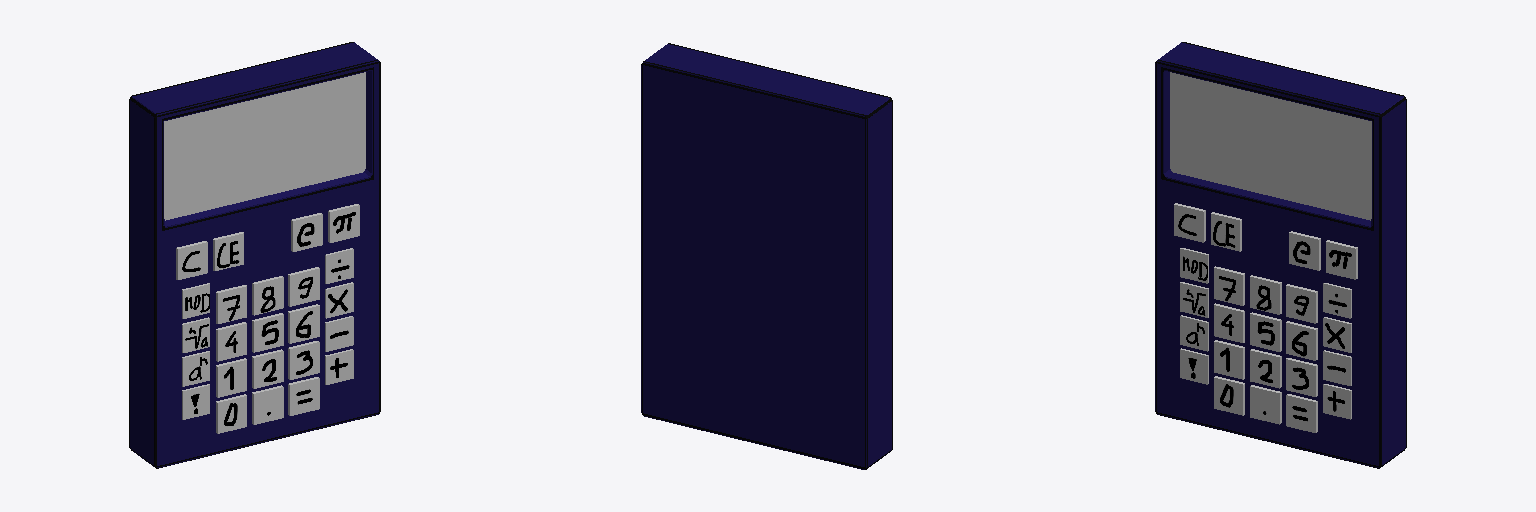
3 renders of one model, left to right at view 1: azimuth 30°, elevation 25°; view 2: azimuth 150°, elevation 25°; view 3: azimuth 330°, elevation 25°, orthographic.
Visible parts, largest first — view 1: Body, Screen, NINE, FIVE, EIGHT, SIX, THREE, C, TWO, DOT, EQUALS, LEFT (+14 smaller); view 2: Body; view 3: Body, Screen, SIX, FIVE, LEFT, EIGHT, NINE, RIGHT, C, TWO, DOT, THREE (+14 smaller).
Boxes of the visible parts, x1=… form: Body: x1=129, y1=42, x2=380, y2=468; Screen: x1=164, y1=72, x2=365, y2=220; NINE: x1=288, y1=267, x2=319, y2=306; FIVE: x1=252, y1=313, x2=283, y2=352; EIGHT: x1=252, y1=276, x2=283, y2=315; SIX: x1=288, y1=304, x2=319, y2=343; THREE: x1=288, y1=341, x2=319, y2=379; C: x1=176, y1=241, x2=207, y2=279; TWO: x1=252, y1=349, x2=283, y2=388; DOT: x1=252, y1=385, x2=283, y2=424; EQUALS: x1=288, y1=377, x2=319, y2=415; LEFT: x1=291, y1=213, x2=322, y2=251; Body: x1=641, y1=43, x2=892, y2=469; Body: x1=1155, y1=42, x2=1406, y2=468; Screen: x1=1170, y1=72, x2=1371, y2=220; SIX: x1=1286, y1=321, x2=1317, y2=360; FIVE: x1=1250, y1=312, x2=1281, y2=351; LEFT: x1=1289, y1=231, x2=1320, y2=270; EIGHT: x1=1250, y1=275, x2=1281, y2=314; NINE: x1=1286, y1=284, x2=1317, y2=323; RIGHT: x1=1326, y1=240, x2=1357, y2=279; C: x1=1174, y1=203, x2=1205, y2=242; TWO: x1=1250, y1=349, x2=1281, y2=388; DOT: x1=1250, y1=385, x2=1281, y2=424; THREE: x1=1286, y1=358, x2=1317, y2=396.
Size of the model in its own units: 0.2 by 0.3 by 0.0431.
Materials: 3 (2 with a texture image).